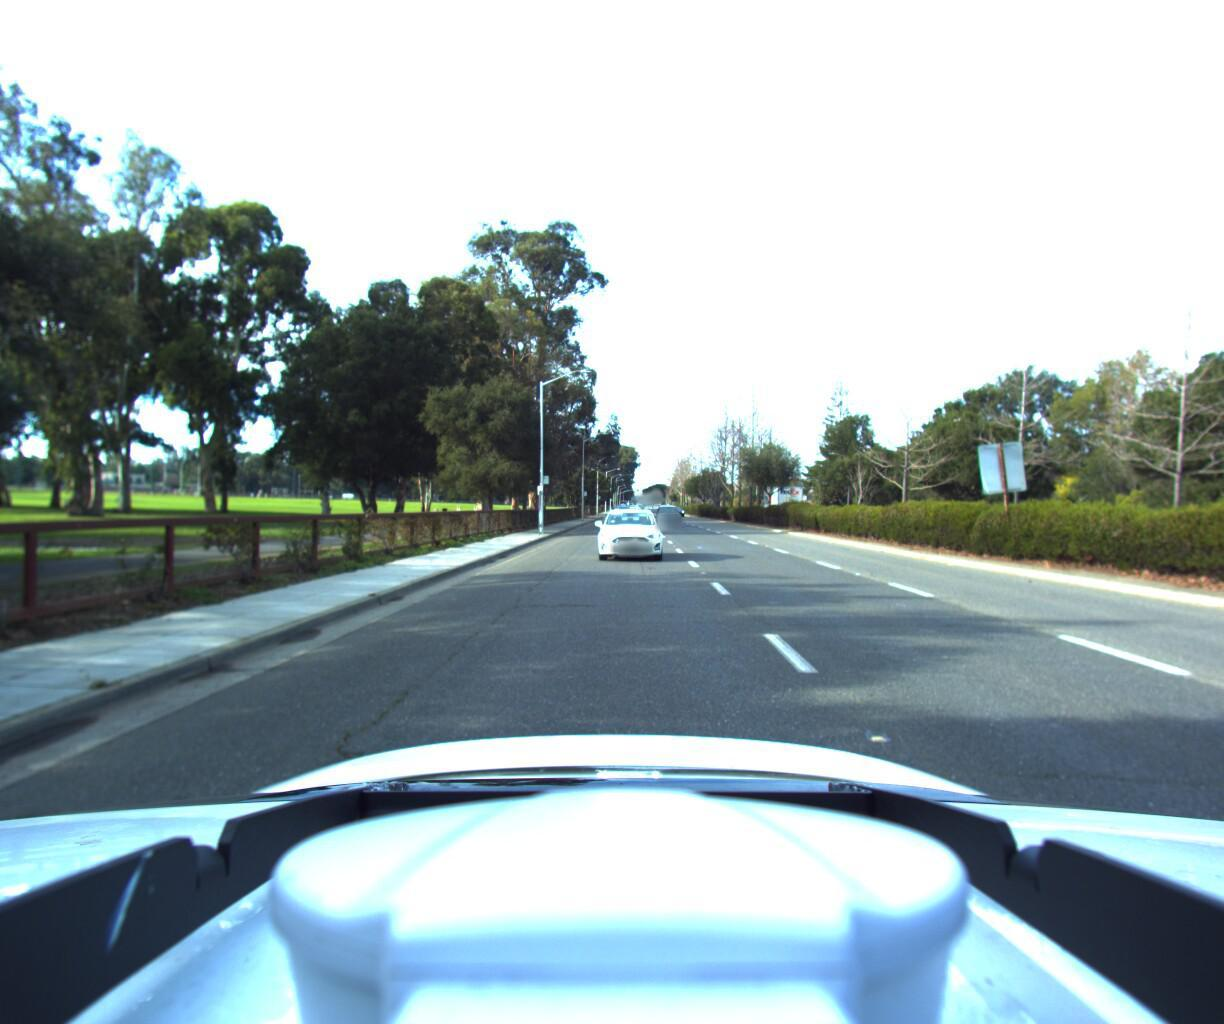car: (594, 504, 664, 562), (615, 503, 646, 533), (658, 504, 686, 528)
